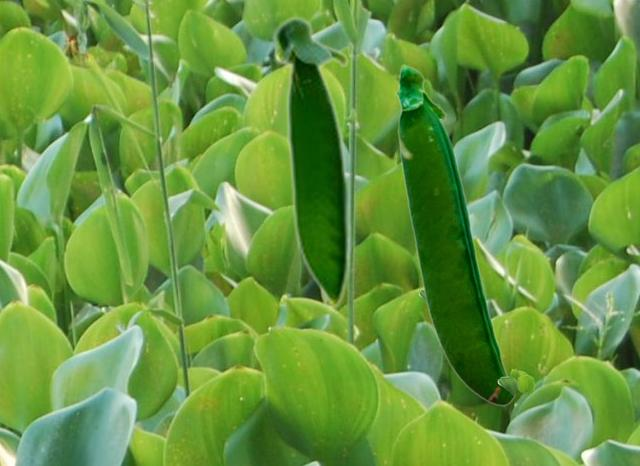pea: (395, 63, 514, 405), (271, 14, 350, 314)
